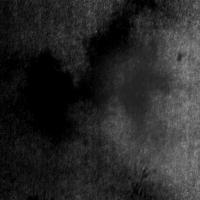patches: (35, 68, 195, 200), (100, 25, 200, 183), (77, 45, 187, 155), (80, 10, 167, 118), (17, 47, 74, 139)
